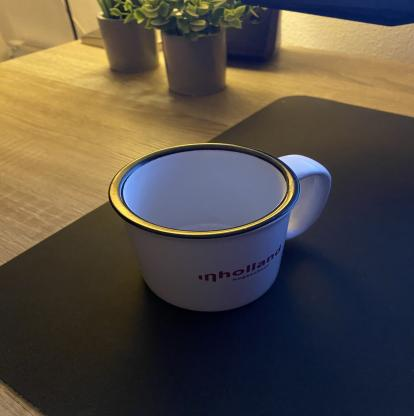Cup: (108, 138, 334, 314)
